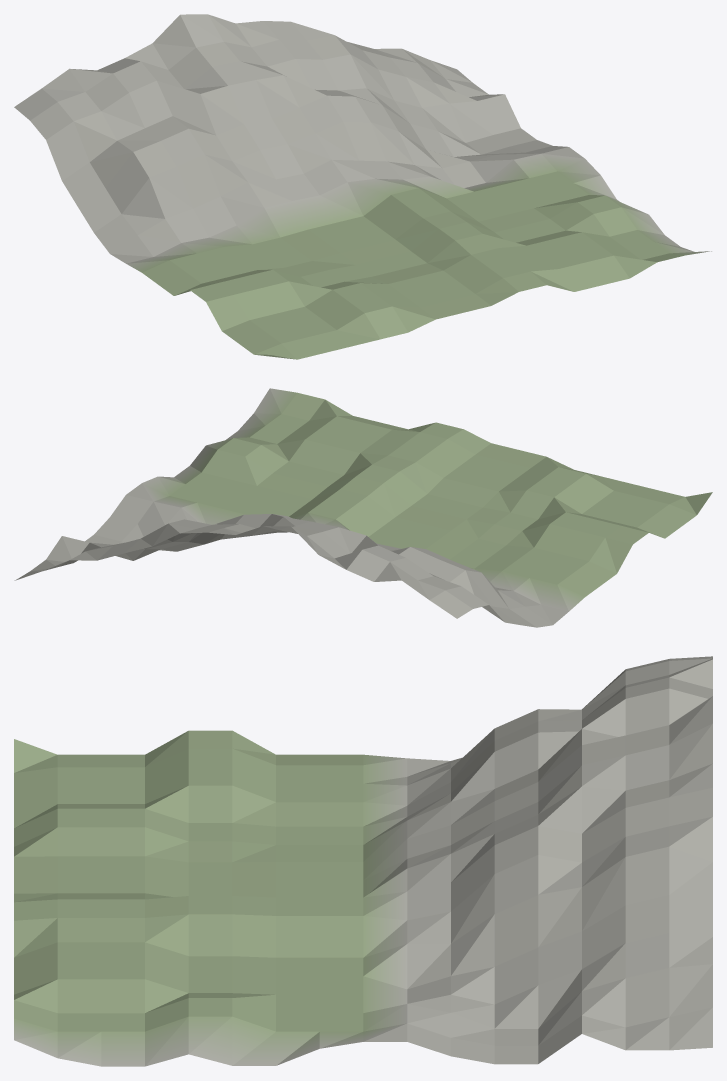
The picture shows the model from 3 angles, top to bottom: view 1: azimuth 30°, elevation 25°; view 2: azimuth 150°, elevation 25°; view 3: azimuth 270°, elevation 25°; orthographic projection. The views are drawn at different scales.
Bounding box in the file's own units: 32 × 9.39 × 32.
